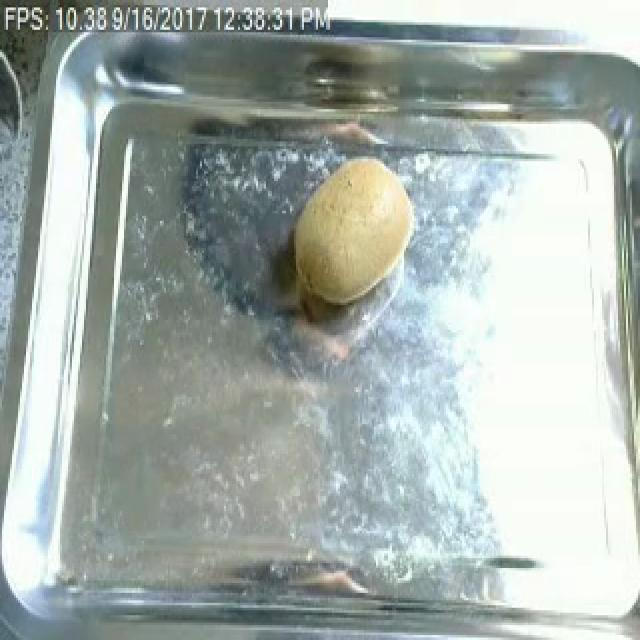Fruit: (284, 146, 424, 312)
